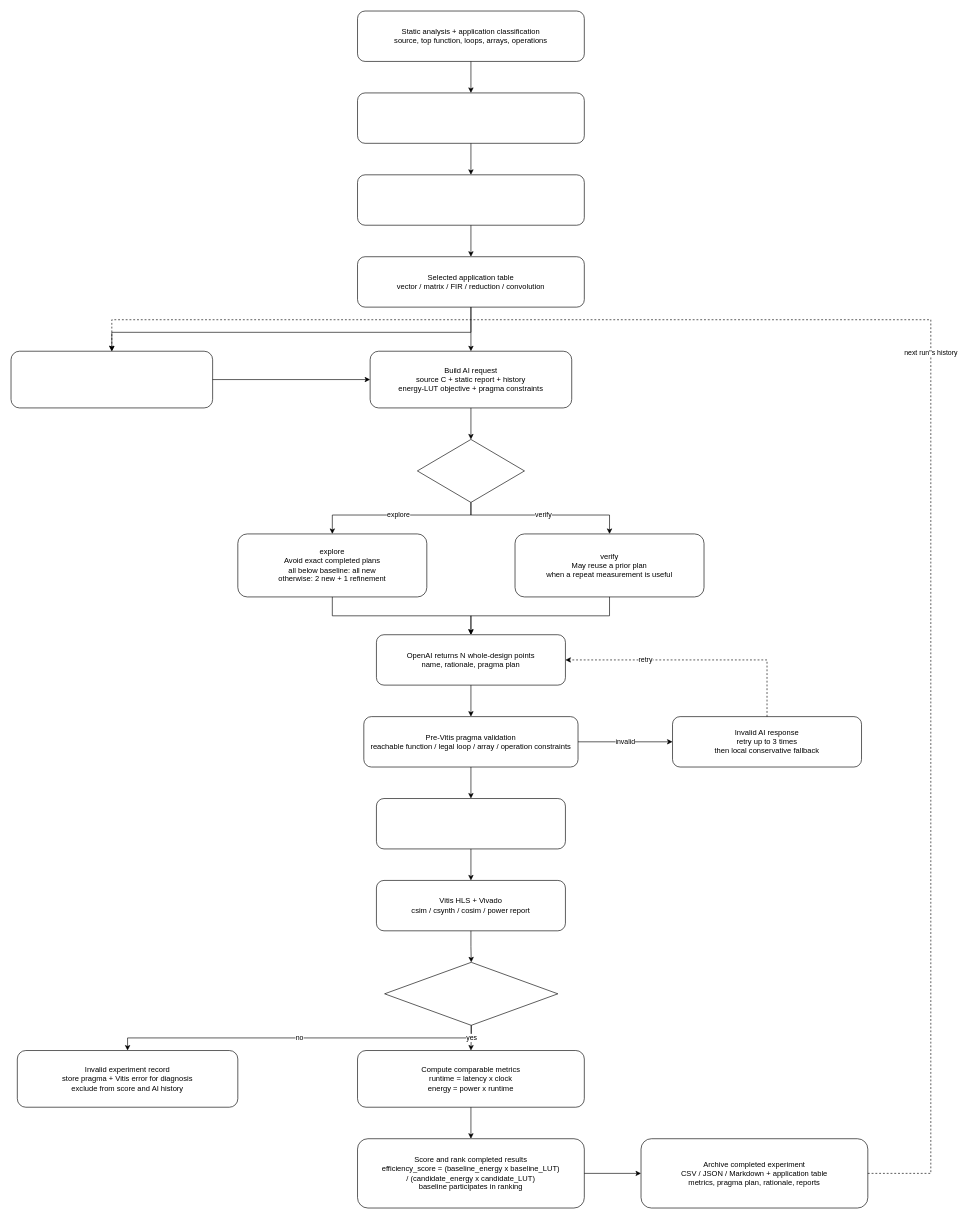
This 968x1219 diagram has some shape labels left out. Here are the shapes that lost their labels. From the top down, the centre of each, then its label:
the point at 470,117: Build evaluation context key source hash + top + FPGA part + clock + testbench
the point at 470,199: Configured SQLite database demo: forge_test.db | release: forge.db
the point at 111,379: Read AI history completed records only same context plans + application results
the point at 470,470: Exploration mode? default: explore
the point at 470,823: Generate projects baseline + N multi-pragma candidates
the point at 471,993: Pragma accepted and metrics complete?
